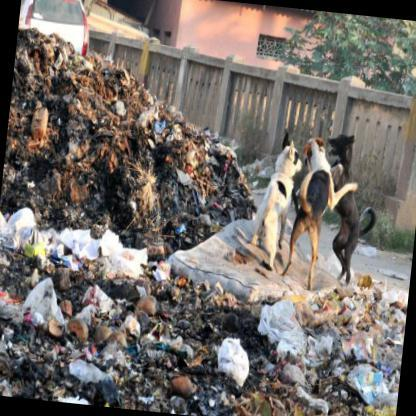Garbage: (261, 300, 406, 415), (0, 193, 164, 287), (344, 278, 408, 367), (0, 200, 76, 271), (78, 110, 142, 186), (201, 132, 259, 199), (88, 220, 154, 275), (204, 324, 254, 396), (252, 295, 308, 357), (51, 352, 113, 406), (146, 108, 188, 181), (340, 356, 396, 408), (77, 278, 125, 337), (0, 211, 40, 257), (22, 95, 62, 138), (303, 296, 344, 336), (359, 298, 391, 346), (162, 370, 194, 401)
